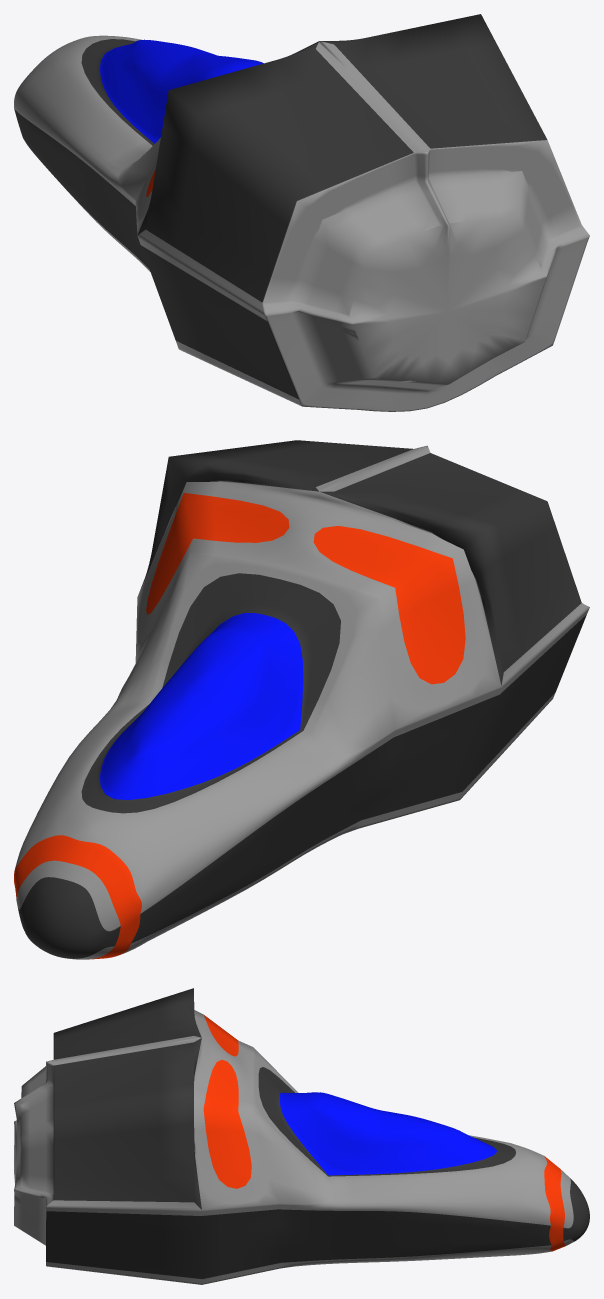
File: Modular_Cockpit_02.FBX
3 renders of one model, top to bottom at view 1: azimuth 30°, elevation 25°; view 2: azimuth 150°, elevation 25°; view 3: azimuth 270°, elevation 25°, orthographic. The views are drawn at different scales.
Parts seen in each view (by area): view 1: Cockpit; view 2: Cockpit; view 3: Cockpit.
Part boxes in pixels (<box>): Cockpit: <box>14,14,589,411</box>; Cockpit: <box>14,440,589,959</box>; Cockpit: <box>14,988,589,1284</box>.
Bounding box in the file's own units: 194 × 161 × 369.
